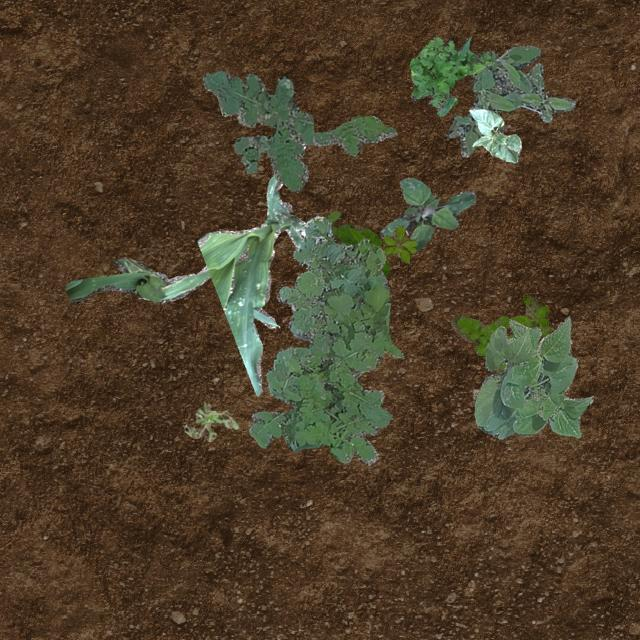crop: (196, 172, 306, 394), (474, 314, 592, 438), (64, 256, 210, 302), (468, 106, 520, 162)
weed: (248, 215, 402, 464), (202, 70, 396, 192), (446, 44, 574, 156), (450, 294, 550, 374), (380, 177, 474, 250), (408, 36, 492, 116), (303, 210, 389, 274), (182, 400, 238, 440), (382, 225, 416, 262)
